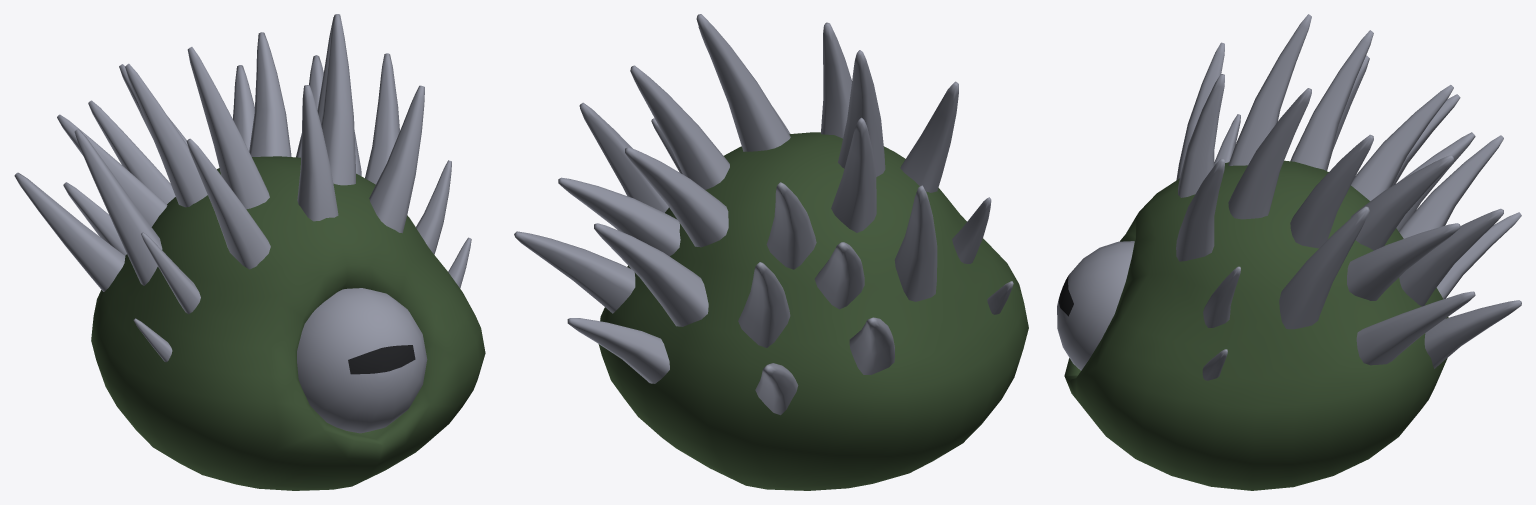
File: GreenSpikyBlob.obj
3 renders of one model, left to right at view 1: azimuth 30°, elevation 25°; view 2: azimuth 150°, elevation 25°; view 3: azimuth 270°, elevation 25°, orthographic. The views are drawn at different scales.
Parts seen in each view (by area): view 1: GreenSpiky_Blob_Sphere.000, GreenSpiky_Blob.002_Sphere.001; view 2: GreenSpiky_Blob_Sphere.000; view 3: GreenSpiky_Blob_Sphere.000, GreenSpiky_Blob.002_Sphere.001.
Part boxes in pixels (x1,y1,x2,y2): GreenSpiky_Blob_Sphere.000: (14,14,485,490); GreenSpiky_Blob.002_Sphere.001: (297,288,427,433); GreenSpiky_Blob_Sphere.000: (514,14,1028,490); GreenSpiky_Blob_Sphere.000: (1064,14,1521,490); GreenSpiky_Blob.002_Sphere.001: (1057,241,1134,370).
Size of the model in its own units: 3.5 by 4.21 by 4.16.
